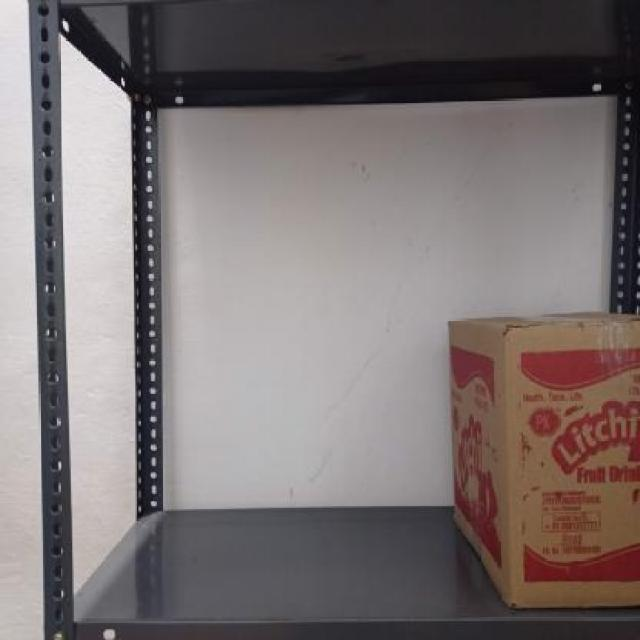box: (504, 322, 640, 609)
